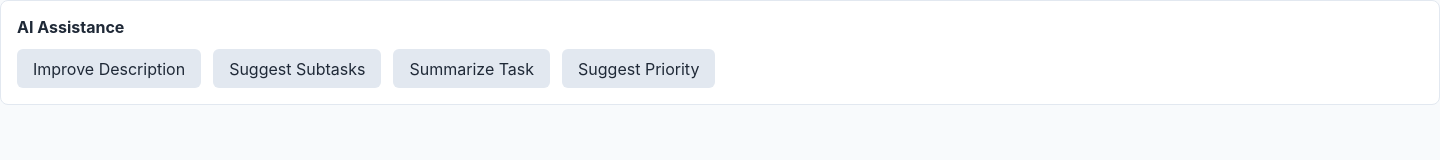
AiTaskTools › shows friendly provider errors
Step 1. Click the button "Suggest Priority" → (639, 69), box x1=562 y1=49 x2=715 y2=88
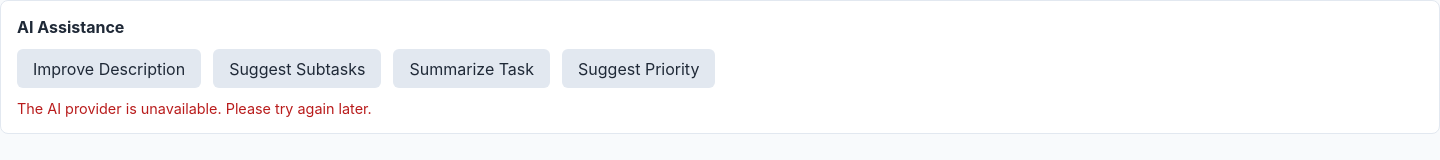
Now the text "The AI provider is unavailable. Please try again later." is shown, box x1=17 y1=100 x2=372 y2=117
